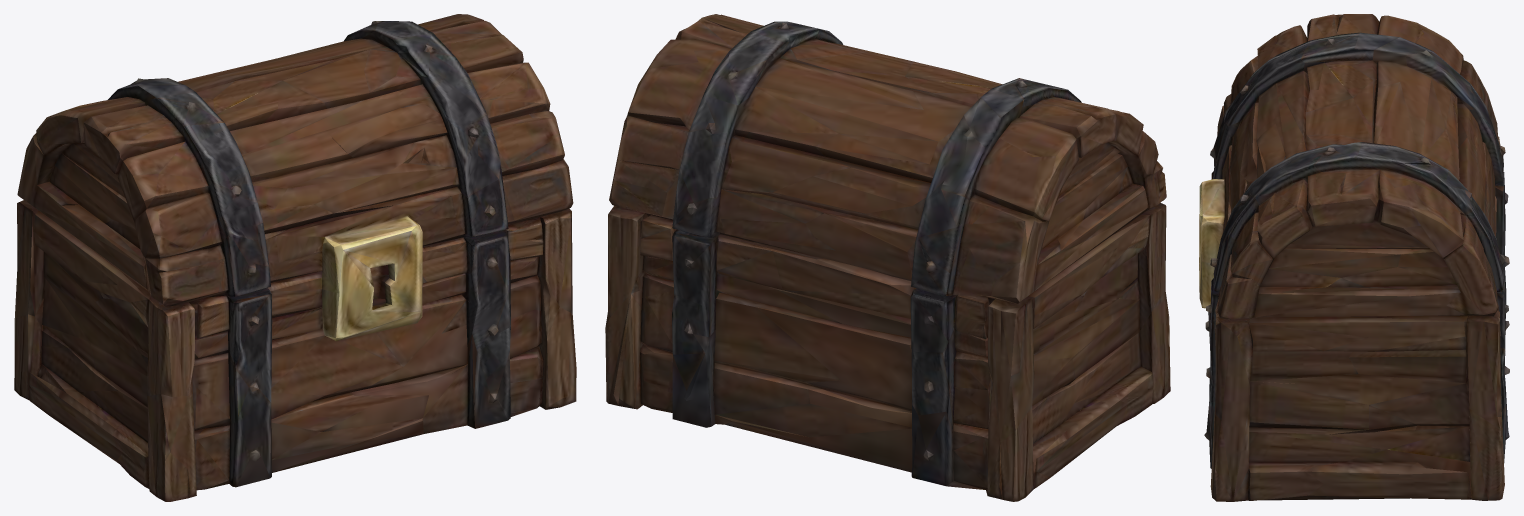
Rendered from chest_3d.glb.
The picture shows the model from 3 angles, left to right: view 1: azimuth 30°, elevation 25°; view 2: azimuth 150°, elevation 25°; view 3: azimuth 270°, elevation 25°; orthographic projection. The views are drawn at different scales.
Visible parts, largest first — view 1: Mesh_0; view 2: Mesh_0; view 3: Mesh_0.
Boxes of the visible parts, left/top/right/bottom form: Mesh_0: left=14, top=14, right=576, bottom=501; Mesh_0: left=605, top=14, right=1170, bottom=501; Mesh_0: left=1199, top=14, right=1509, bottom=501.
Size of the model in its own units: 0.8936 by 0.6875 by 0.6166.
1 material, 1 textured.
